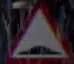Speed Breaker ahead: (6, 3, 70, 63)
